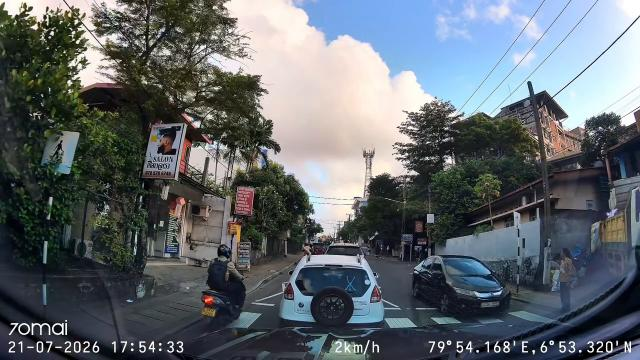illegal overtaking: (193, 236, 254, 335)
number plate: (199, 306, 219, 321)
